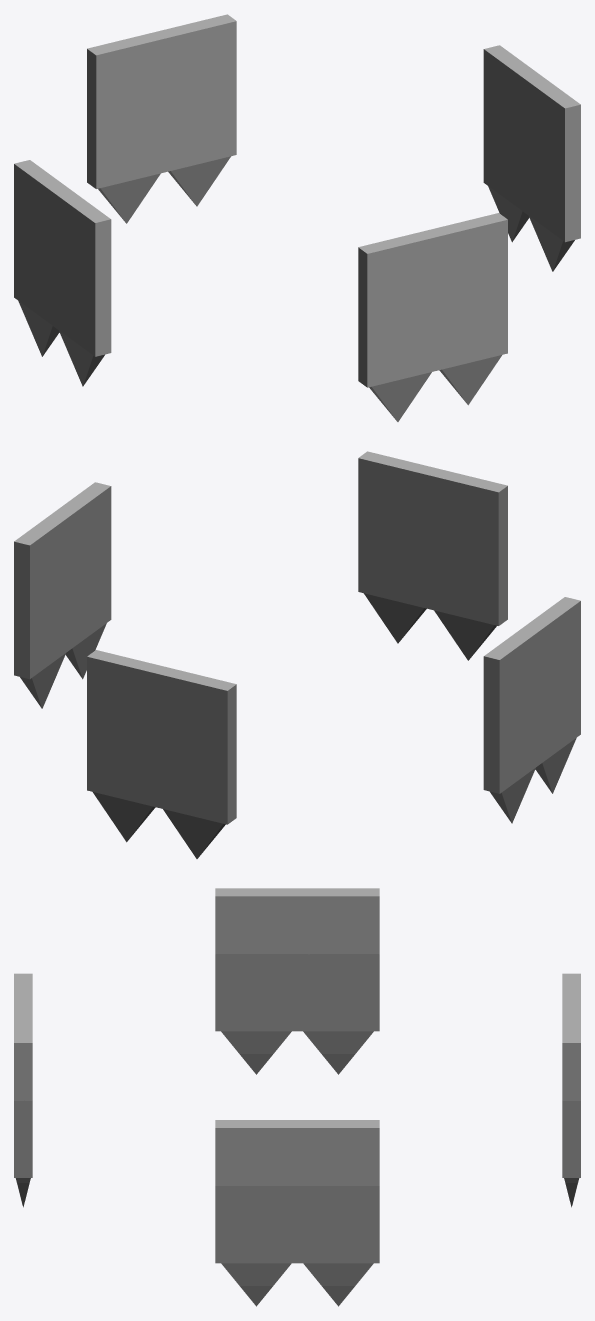
The model's file is altar_banner.glb.
3 renders of one model, top to bottom at view 1: azimuth 30°, elevation 25°; view 2: azimuth 150°, elevation 25°; view 3: azimuth 270°, elevation 25°, orthographic.
Size of the model in its own units: 0.76 by 0.27 by 0.76.
Materials: 1 (1 with a texture image).
